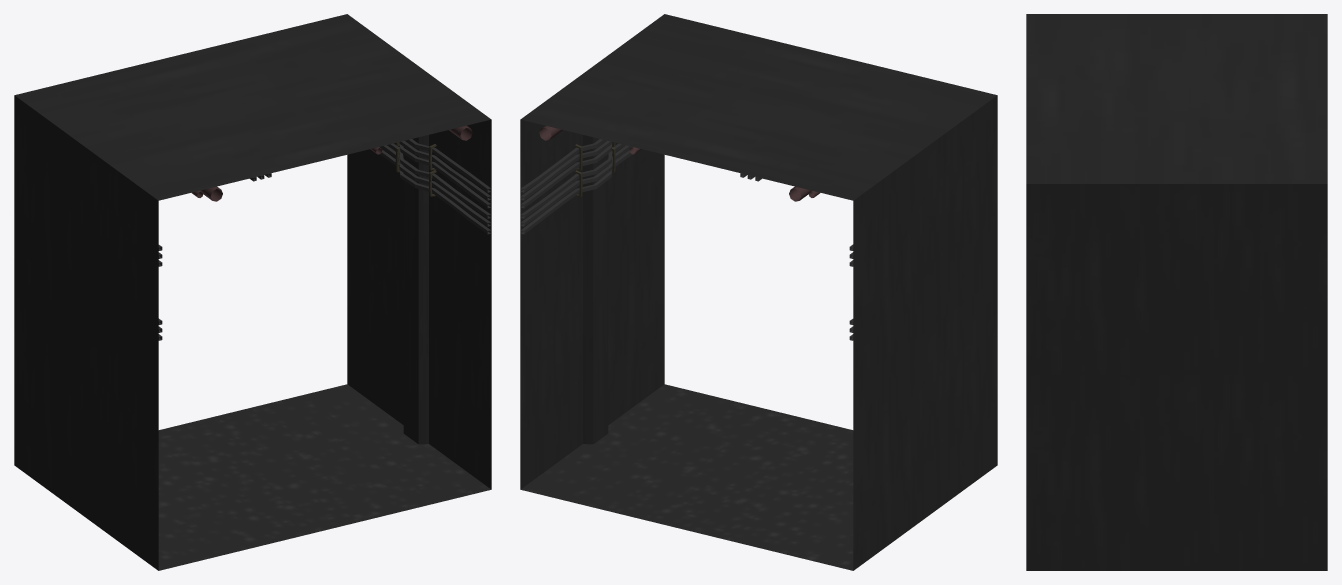
The model's file is SW_ENV_RailTunnel_B_01_Single_03m_FF.fbx.
3 views of the same model, side by side, from view 1: azimuth 30°, elevation 25°; view 2: azimuth 150°, elevation 25°; view 3: azimuth 270°, elevation 25° (orthographic). The views are drawn at different scales.
Parts seen in each view (by area): view 1: SW_ENV_RailTunnel_B_01_Single_03m_FF; view 2: SW_ENV_RailTunnel_B_01_Single_03m_FF; view 3: SW_ENV_RailTunnel_B_01_Single_03m_FF.
Boxes of the visible parts, <box> form: SW_ENV_RailTunnel_B_01_Single_03m_FF: <box>14,14,491,570</box>; SW_ENV_RailTunnel_B_01_Single_03m_FF: <box>520,14,997,570</box>; SW_ENV_RailTunnel_B_01_Single_03m_FF: <box>1026,14,1327,570</box>.
Bounding box in the file's own units: 4 × 4.25 × 3.
